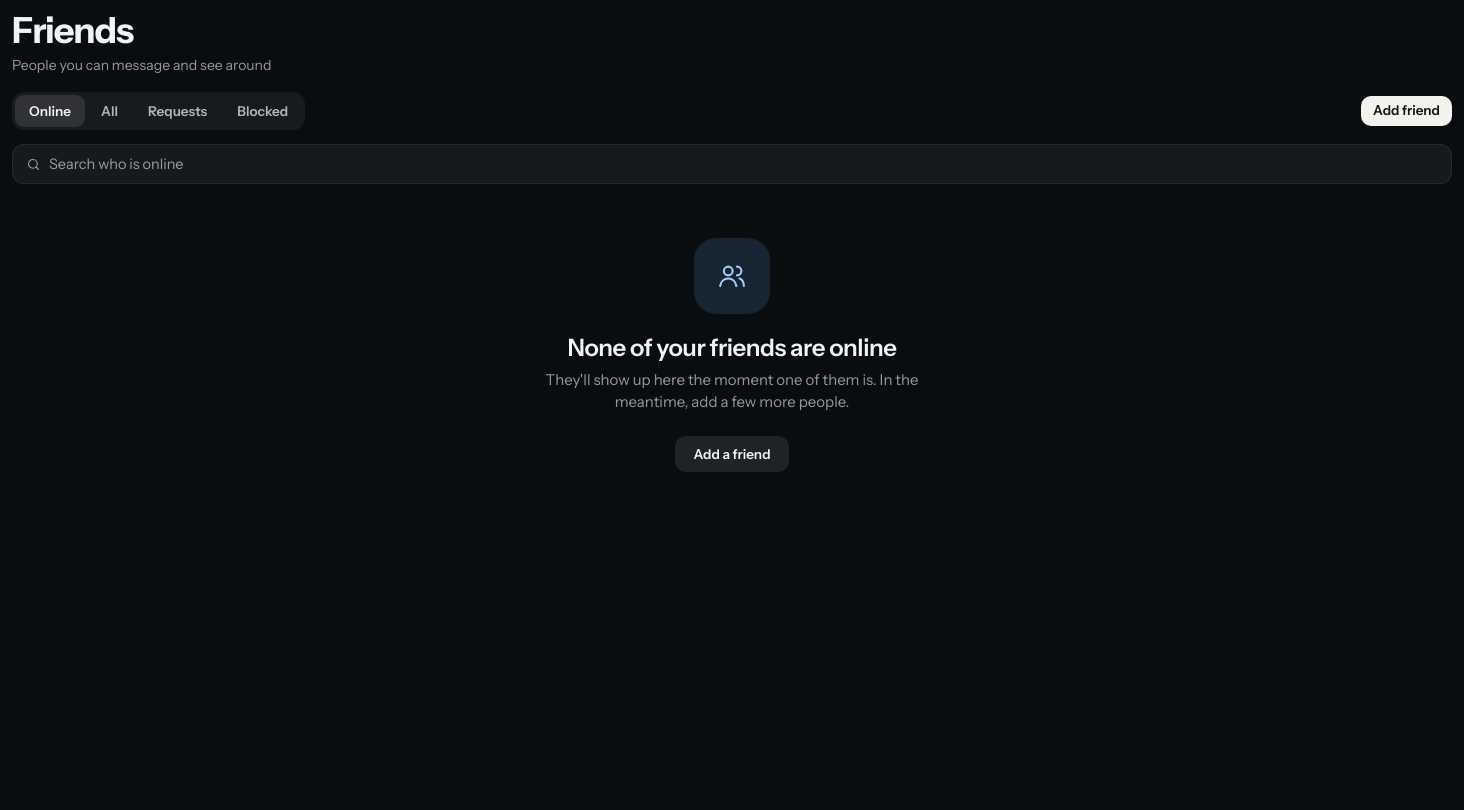
Test case: FriendsPage › renders a left-aligned empty state that points at the Add friend action
What coordinates should you click on to do the following:
click the tab "All"
I would click on:
 (109, 111)
Its box is 87,95 -> 132,127.
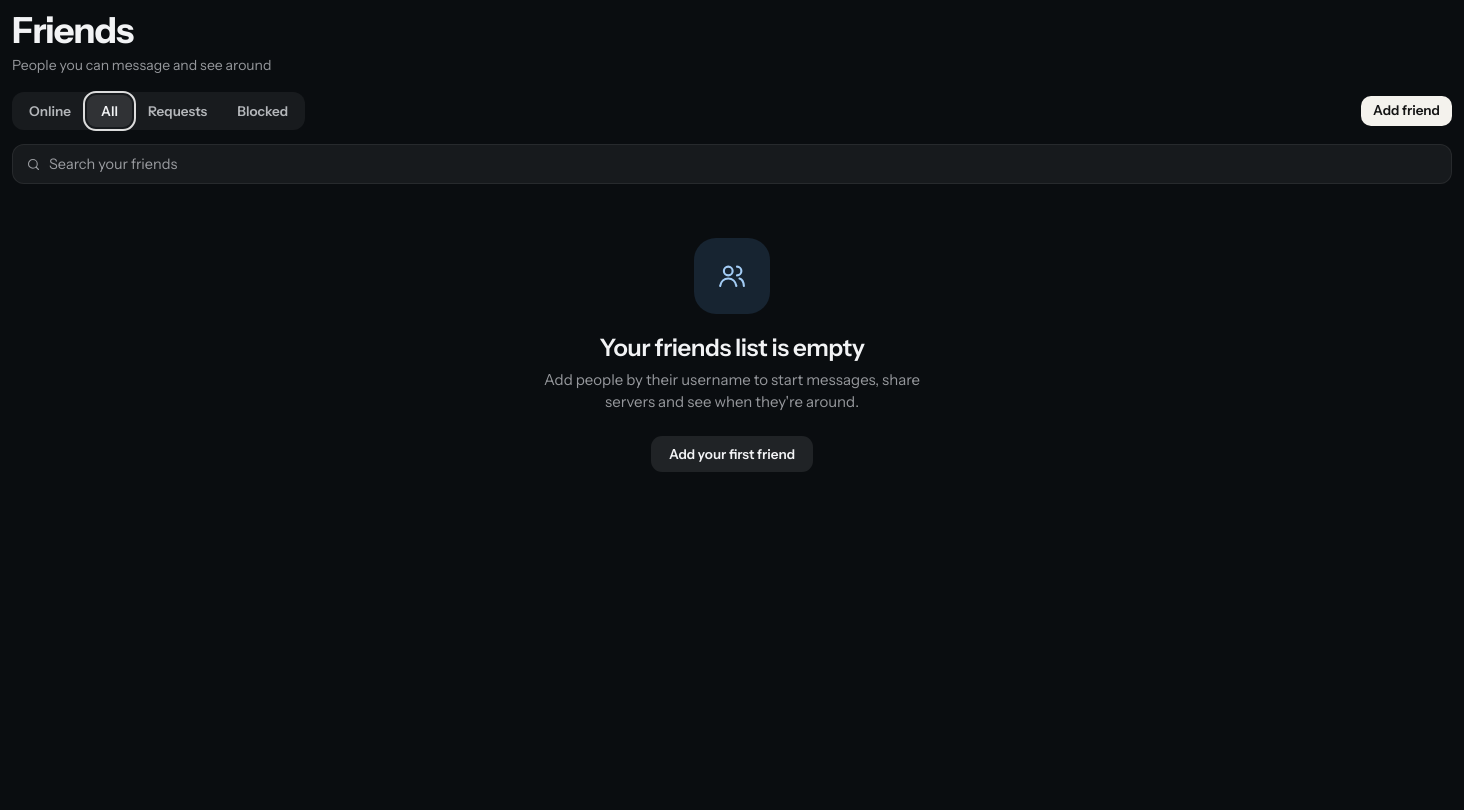
Expected: the heading "Your friends list is empty" is shown, 600,334 -> 864,363
# The empty-state CTA opens the same add-friend input.
What coordinates should you click on to do the following:
click the button "Add your first friend"
I would click on:
 (732, 454)
Its box is 651,436 -> 813,472.
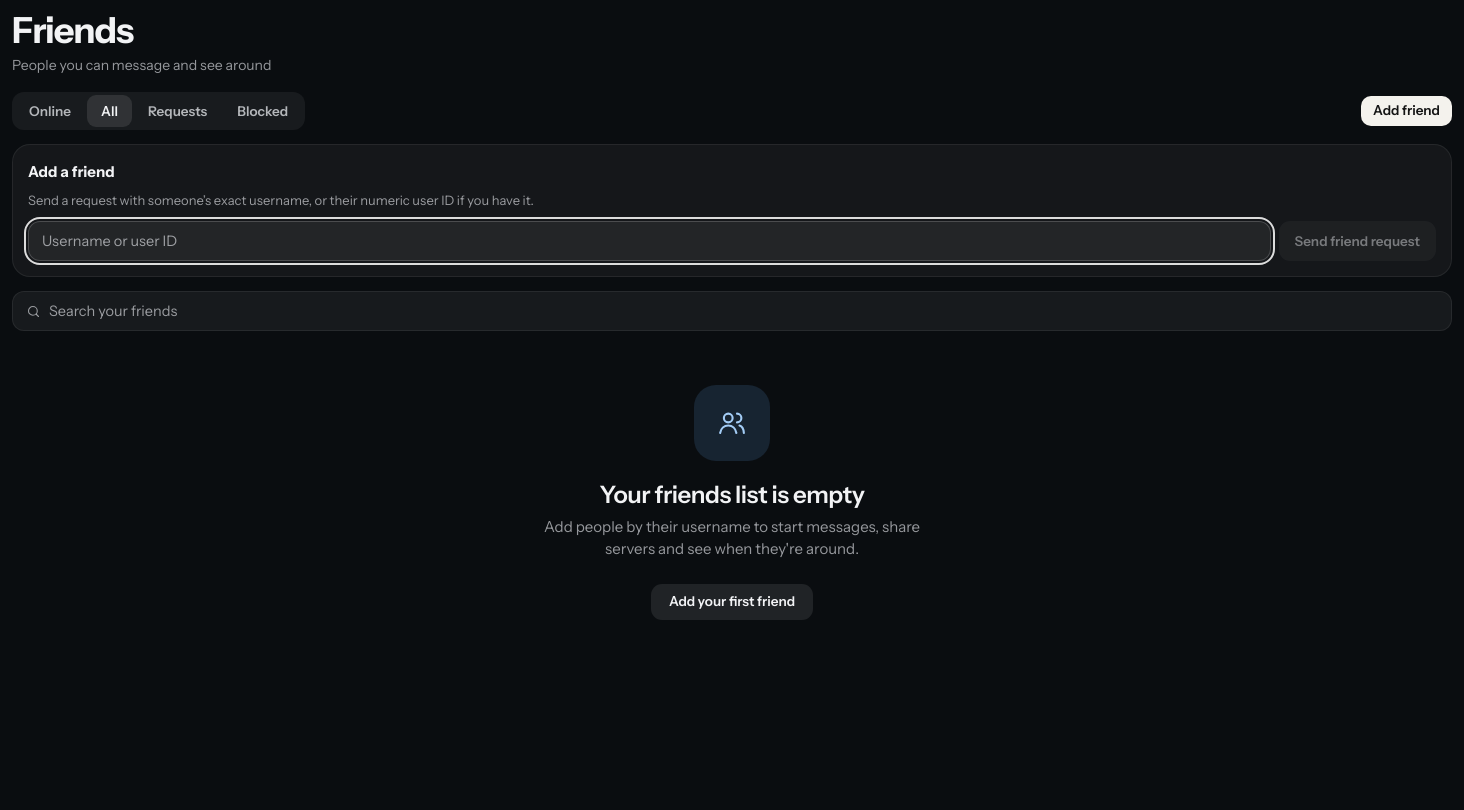
Expected: the field labelled "Username or user ID" is shown, 28,221 -> 1271,261
